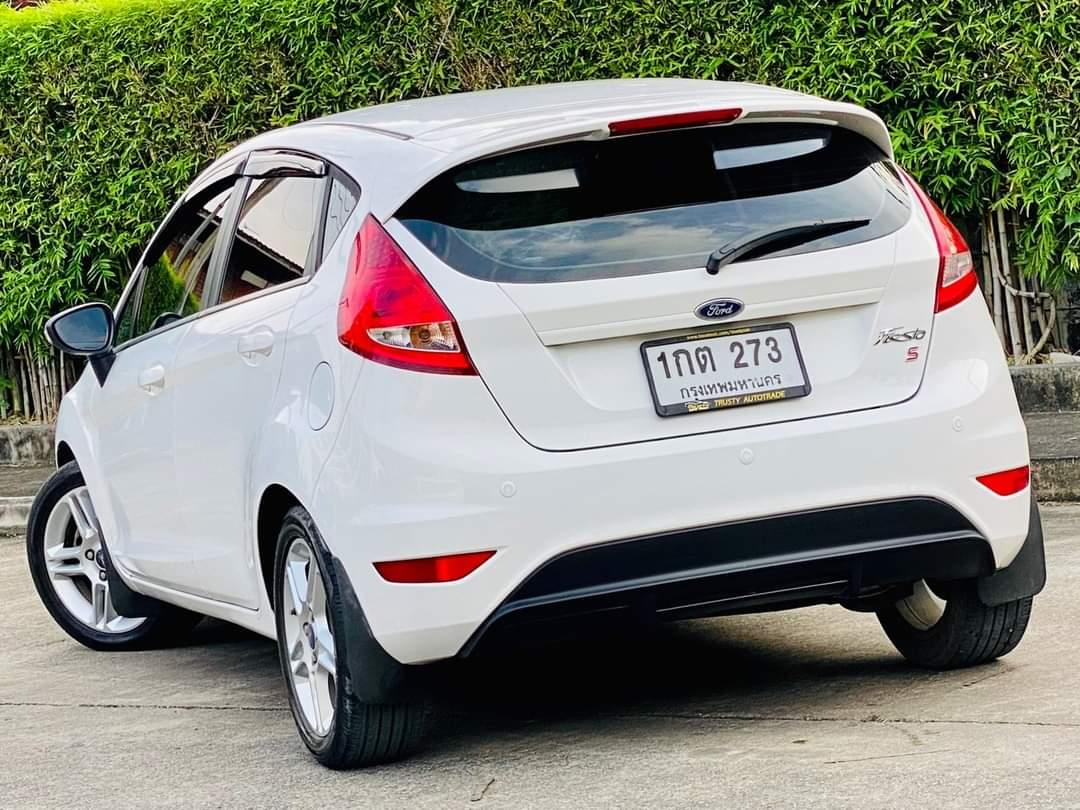license-plate: (635, 319, 819, 422)
